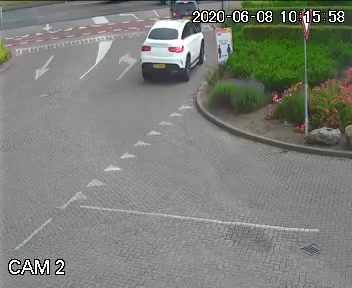car: (137, 14, 209, 87), (163, 0, 214, 15)
